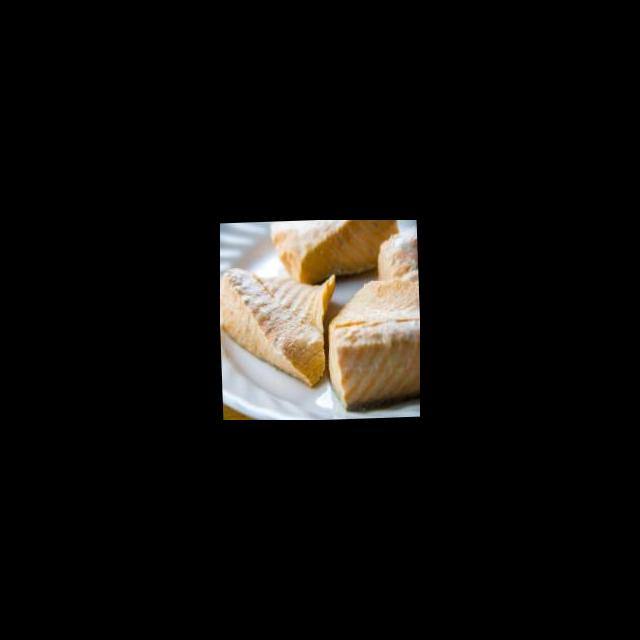ca hoi: (220, 259, 341, 395), (321, 272, 420, 410), (268, 220, 401, 290), (374, 223, 418, 283)
